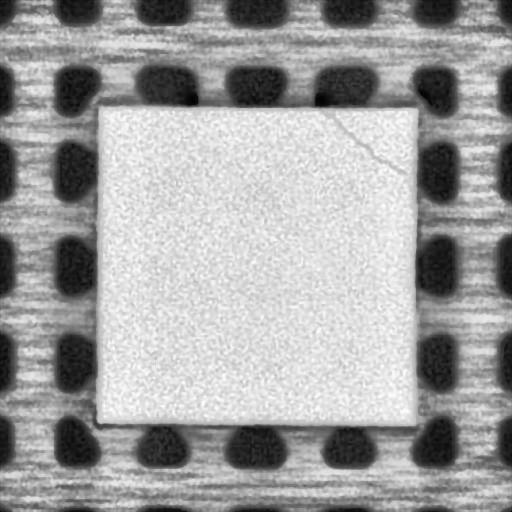DIE_CRACK: (321, 110, 404, 172)
